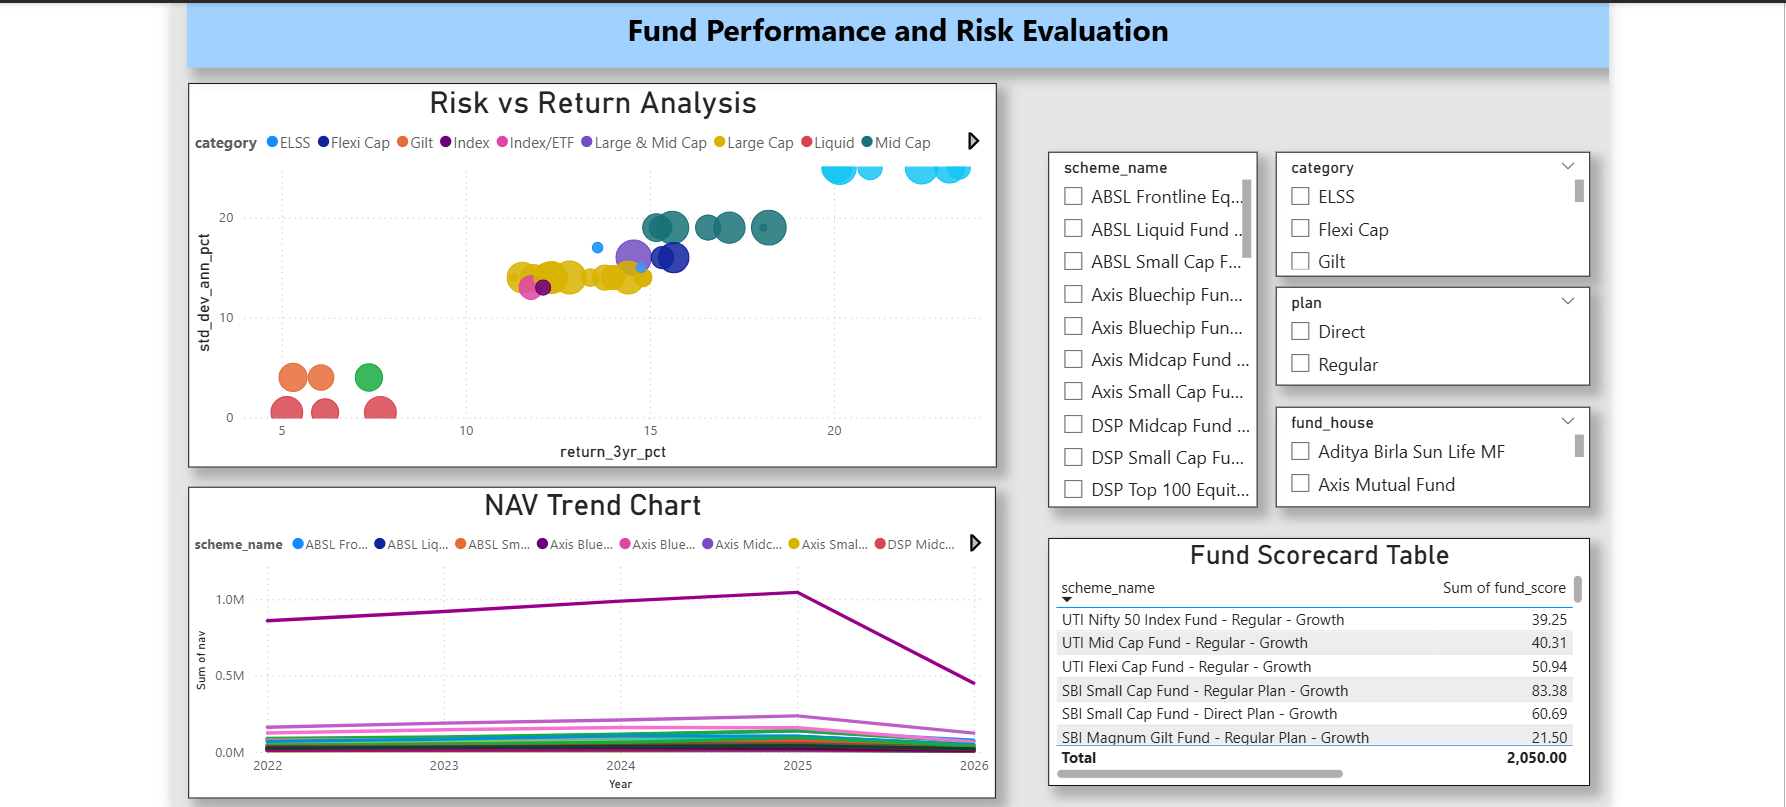

What the dashboard file says about the page in this screenshot:
{"tool":"powerbi","page":{"name":"Fund Performance","canvas":[1280,720],"ordinal":1},"visuals":[{"type":"scatterChart","title":"Risk vs Return Analysis","fields":{"Series":["07_scheme_performance.category"],"Size":["Sum(07_scheme_performance.aum_crore)"],"X":["07_scheme_performance.return_3yr_pct"],"Y":["07_scheme_performance.std_dev_ann_pct"]},"box":[14.2,71.1,719.6,342.8],"z":0},{"type":"slicer","fields":{"Values":["07_scheme_performance.category"]},"box":[982.8,132.3,280.2,110.9],"z":1000},{"type":"slicer","fields":{"Values":["07_scheme_performance.plan"]},"box":[982.8,253.2,280.2,88.2],"z":2000},{"type":"slicer","fields":{"Values":["07_scheme_performance.fund_house"]},"box":[982.8,359.8,280.2,89.6],"z":3000},{"type":"tableEx","title":"Fund Scorecard Table","fields":{"Values":["fund_scorecard.scheme_name","Sum(fund_scorecard.fund_score)","Sum(fund_scorecard.sharpe_ratio)","Sum(fund_scorecard.alpha)","Sum(fund_scorecard.max_drawdown)"]},"box":[780.8,476.4,482.1,220.4],"z":4000},{"type":"lineChart","title":"NAV Trend Chart","fields":{"Category":["nav_with_returns.date.Variation.Date Hierarchy.Year","nav_with_returns.date.Variation.Date Hierarchy.Quarter","nav_with_returns.date.Variation.Date Hierarchy.Month","nav_with_returns.date.Variation.Date Hierarchy.Day"],"Series":["01_fund_master.scheme_name"],"Y":["Sum(nav_with_returns.nav)"]},"box":[14.7,430.7,719,277.3],"z":5000},{"type":"slicer","fields":{"Values":["01_fund_master.scheme_name"]},"box":[780.8,132.3,186.3,317.2],"z":6000},{"type":"textbox","box":[13.7,0,1266.4,57.2],"z":7000}]}

Visuals, with their boxes in screenshot pixels (x1, y1, x2, y2):
"Risk vs Return Analysis" scatterChart: BBox(192, 79, 990, 459)
slicer - 07_scheme_performance.category: BBox(1266, 147, 1577, 270)
slicer - 07_scheme_performance.plan: BBox(1266, 281, 1577, 378)
slicer - 07_scheme_performance.fund_house: BBox(1266, 399, 1577, 498)
"Fund Scorecard Table" tableEx: BBox(1042, 528, 1577, 772)
"NAV Trend Chart" lineChart: BBox(193, 477, 990, 785)
slicer - 01_fund_master.scheme_name: BBox(1042, 147, 1249, 498)
textbox: BBox(192, 0, 1596, 63)
